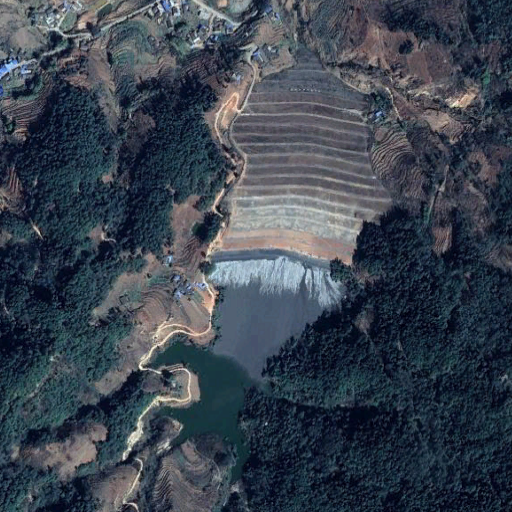tp: (144, 42, 392, 487)
